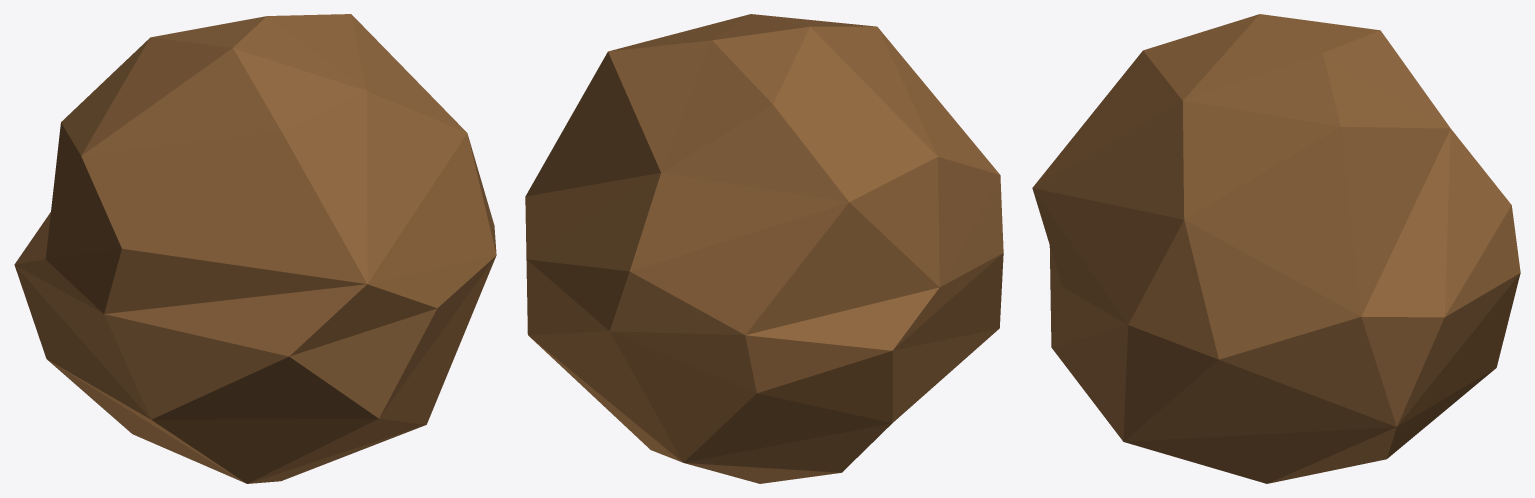
The model's file is roche4.fbx.
3 renders of one model, left to right at view 1: azimuth 30°, elevation 25°; view 2: azimuth 150°, elevation 25°; view 3: azimuth 270°, elevation 25°, orthographic. The views are drawn at different scales.
Parts seen in each view (by area): view 1: Roche; view 2: Roche; view 3: Roche.
Part boxes in pixels (<box>): Roche: <box>14,14,496,483</box>; Roche: <box>525,14,1003,483</box>; Roche: <box>1032,14,1520,483</box>.
Size of the model in its own units: 596 by 609 by 619.
